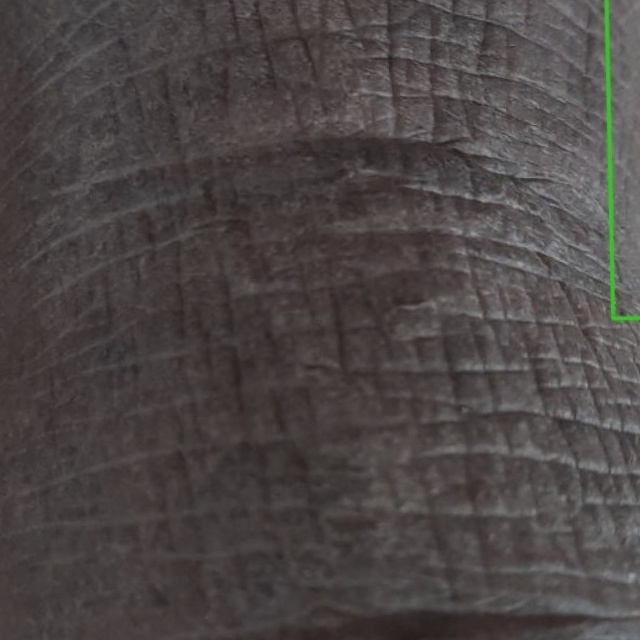Eczema: (606, 0, 639, 318)
